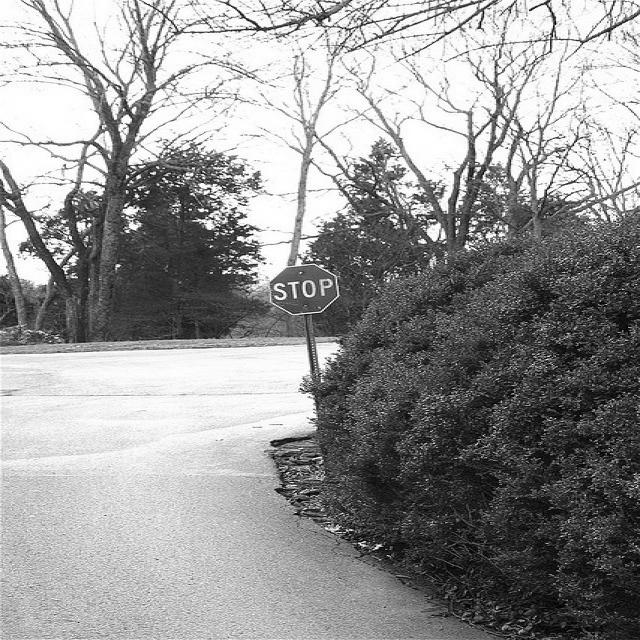pole: (303, 315, 325, 439)
